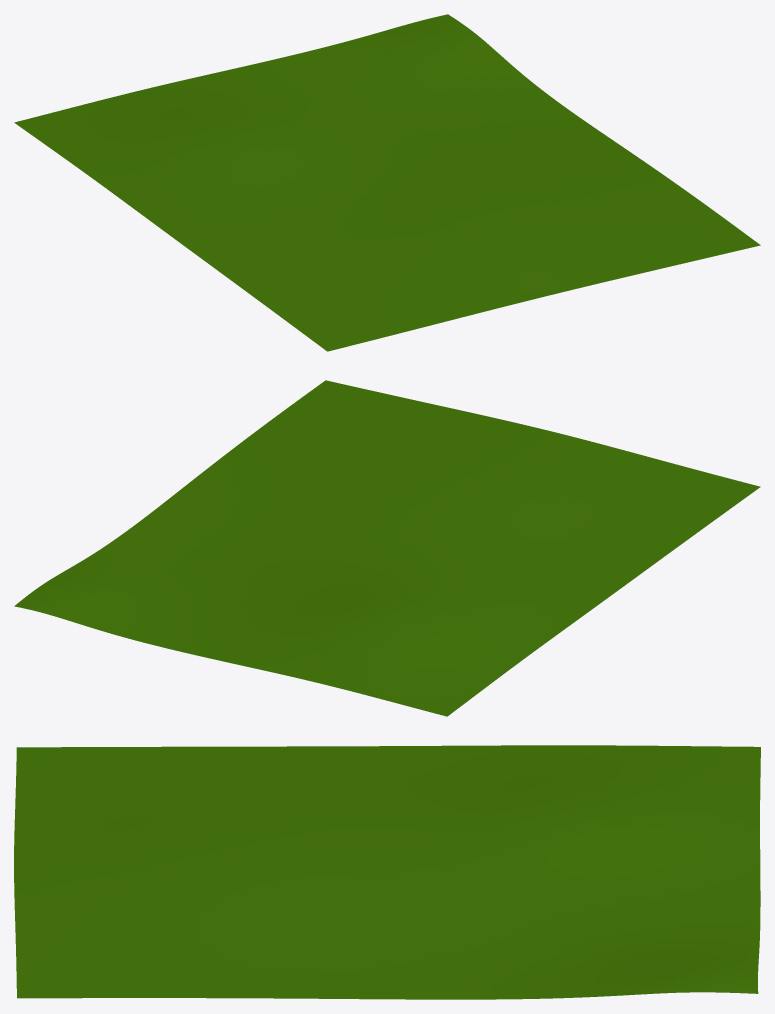
File: terrain_18821.glb
3 renders of one model, top to bottom at view 1: azimuth 30°, elevation 25°; view 2: azimuth 150°, elevation 25°; view 3: azimuth 270°, elevation 25°, orthographic. The views are drawn at different scales.
Visible parts, largest first — view 1: Plane; view 2: Plane; view 3: Plane.
Part boxes in pixels (x1=…): Plane: x1=14, y1=14, x2=760, y2=351; Plane: x1=14, y1=380, x2=760, y2=716; Plane: x1=14, y1=745, x2=760, y2=999.
Size of what is drawn, in the model's own units: 40.05 by 0.9108 by 50.21.
